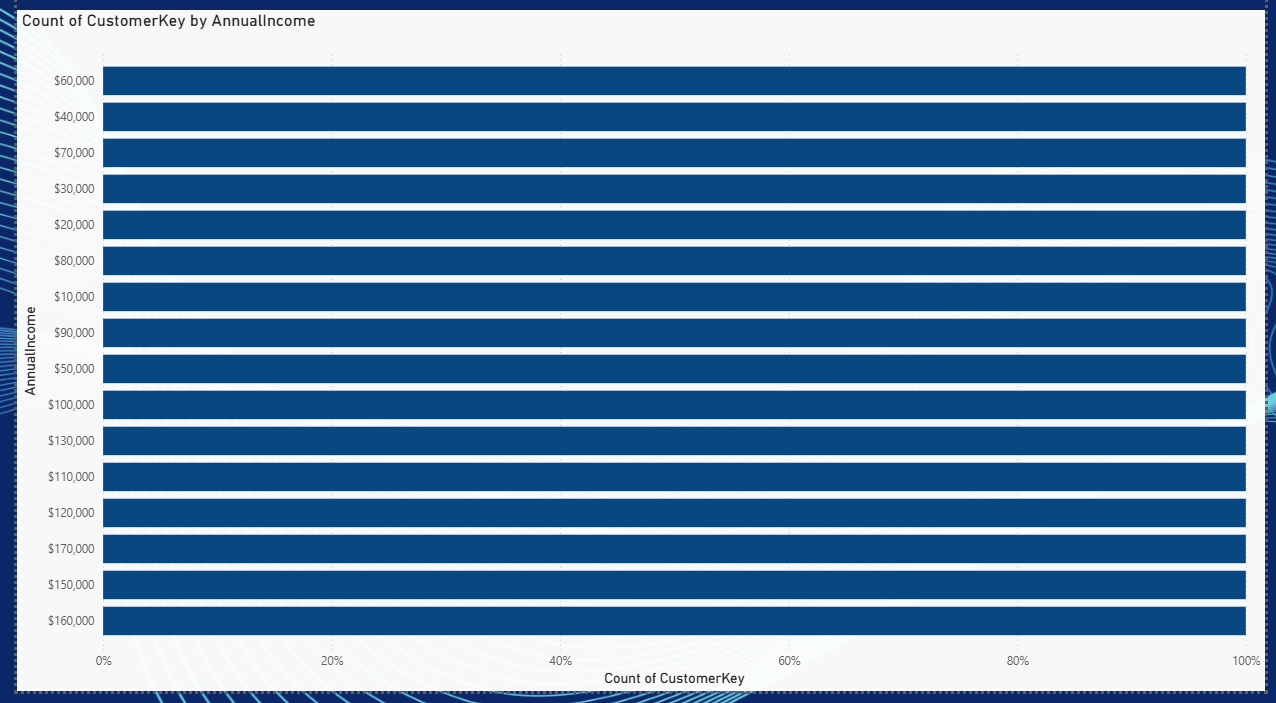

Layout of this report page (visuals, bound fields, positions):
{"tool":"powerbi","page":{"name":"Customer distribution by Annual Income","canvas":[1280,720],"ordinal":2},"visuals":[{"type":"hundredPercentStackedBarChart","fields":{"Category":["gold extsales.AnnualIncome"],"Y":["CountNonNull(gold extsales.CustomerKey)"]},"box":[0,21.7,1280,698.3],"z":0}]}

Visuals, with their boxes in screenshot pixels (x1, y1, x2, y2), scaled from the page's 1280x720 canvas onto the 1276x703 screenshot:
hundredPercentStackedBarChart - gold extsales.AnnualIncome x CountNonNull(gold extsales.CustomerKey): region(0, 21, 1275, 702)
